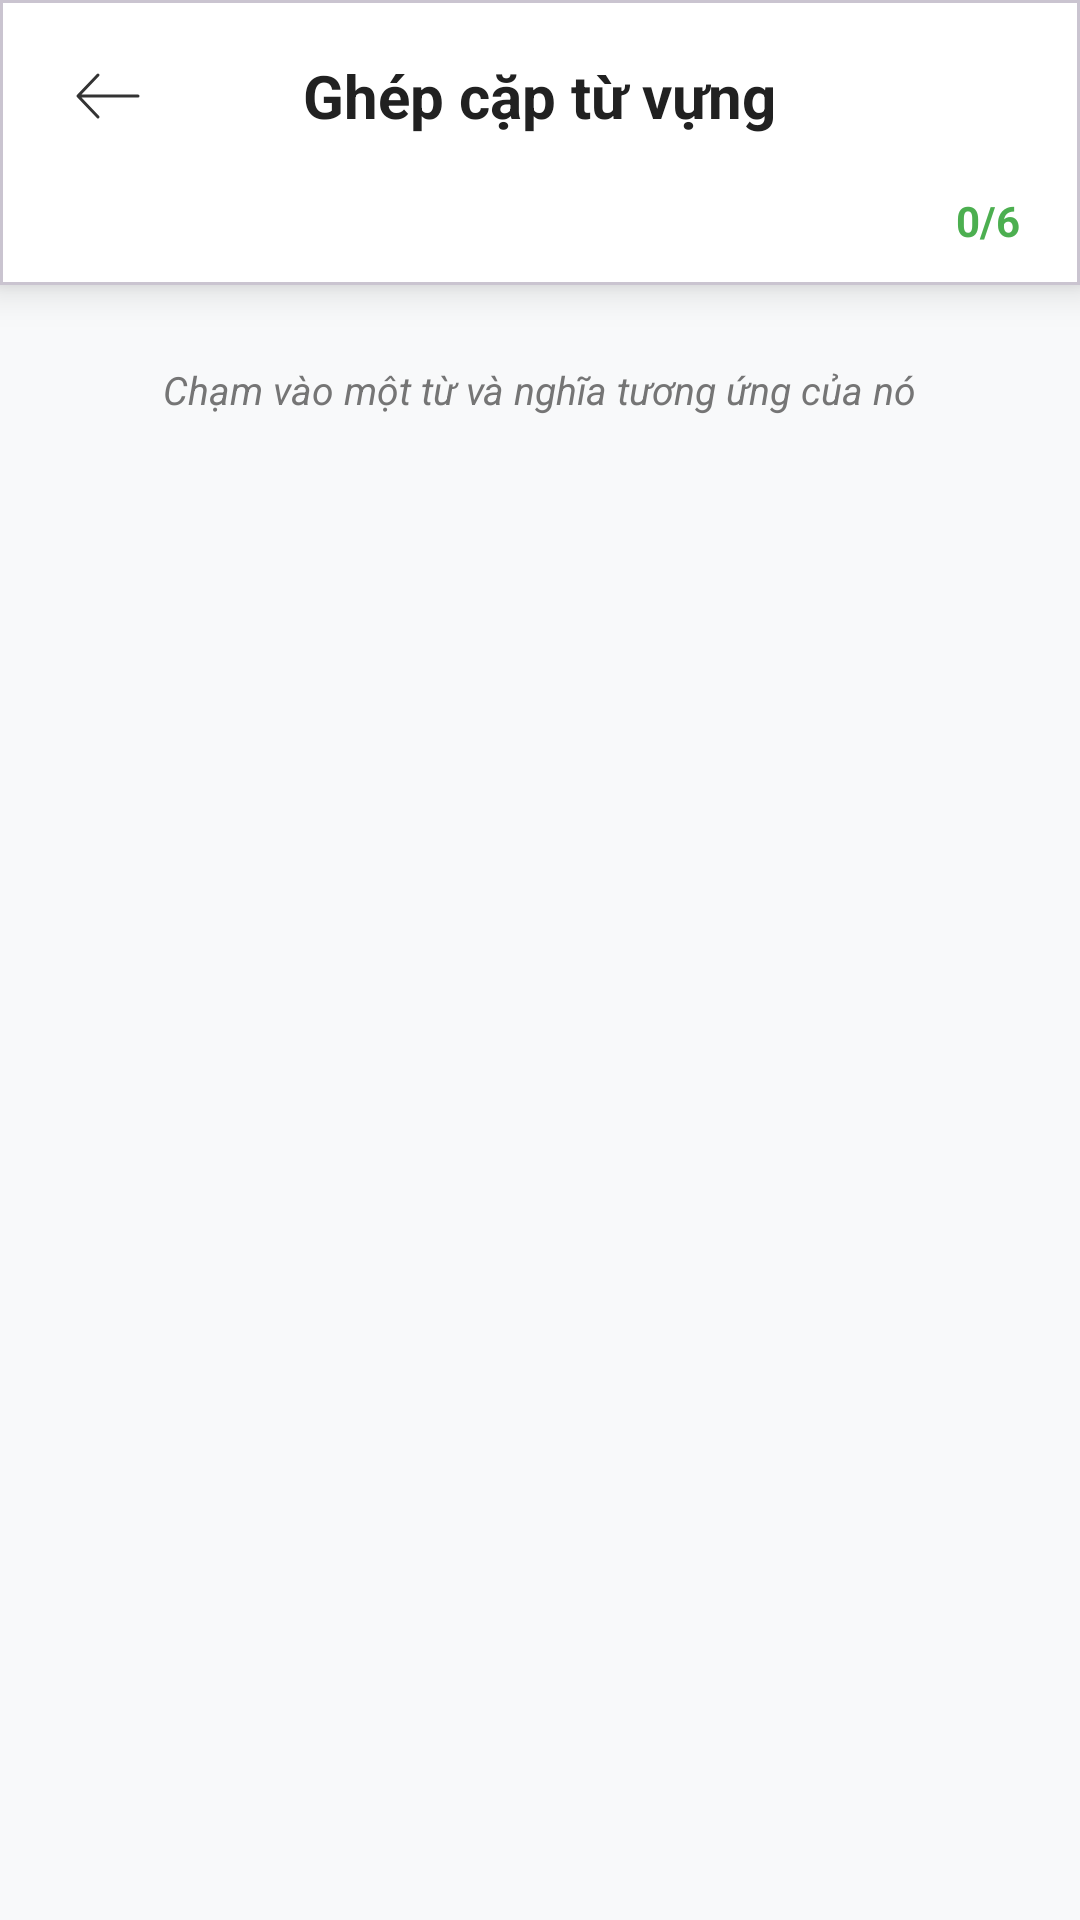

Named icons in this screenshot (1080px×1920px) and their bounding boxes, (x1, y1, x2, y2):
back: (76, 73, 140, 119)
